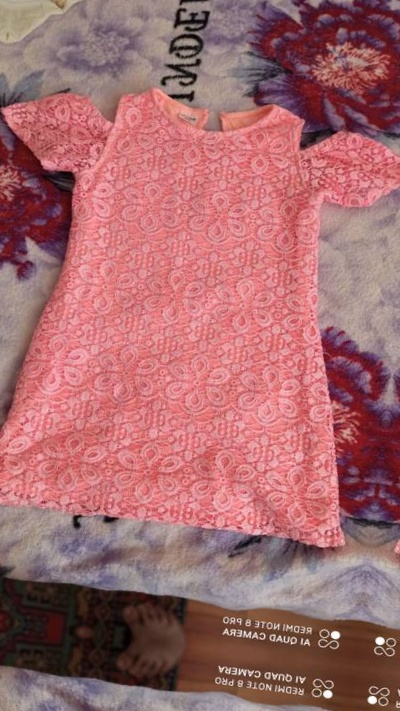Dress: (0, 38, 400, 576), (366, 93, 400, 631), (0, 0, 6, 521), (0, 705, 342, 711)
